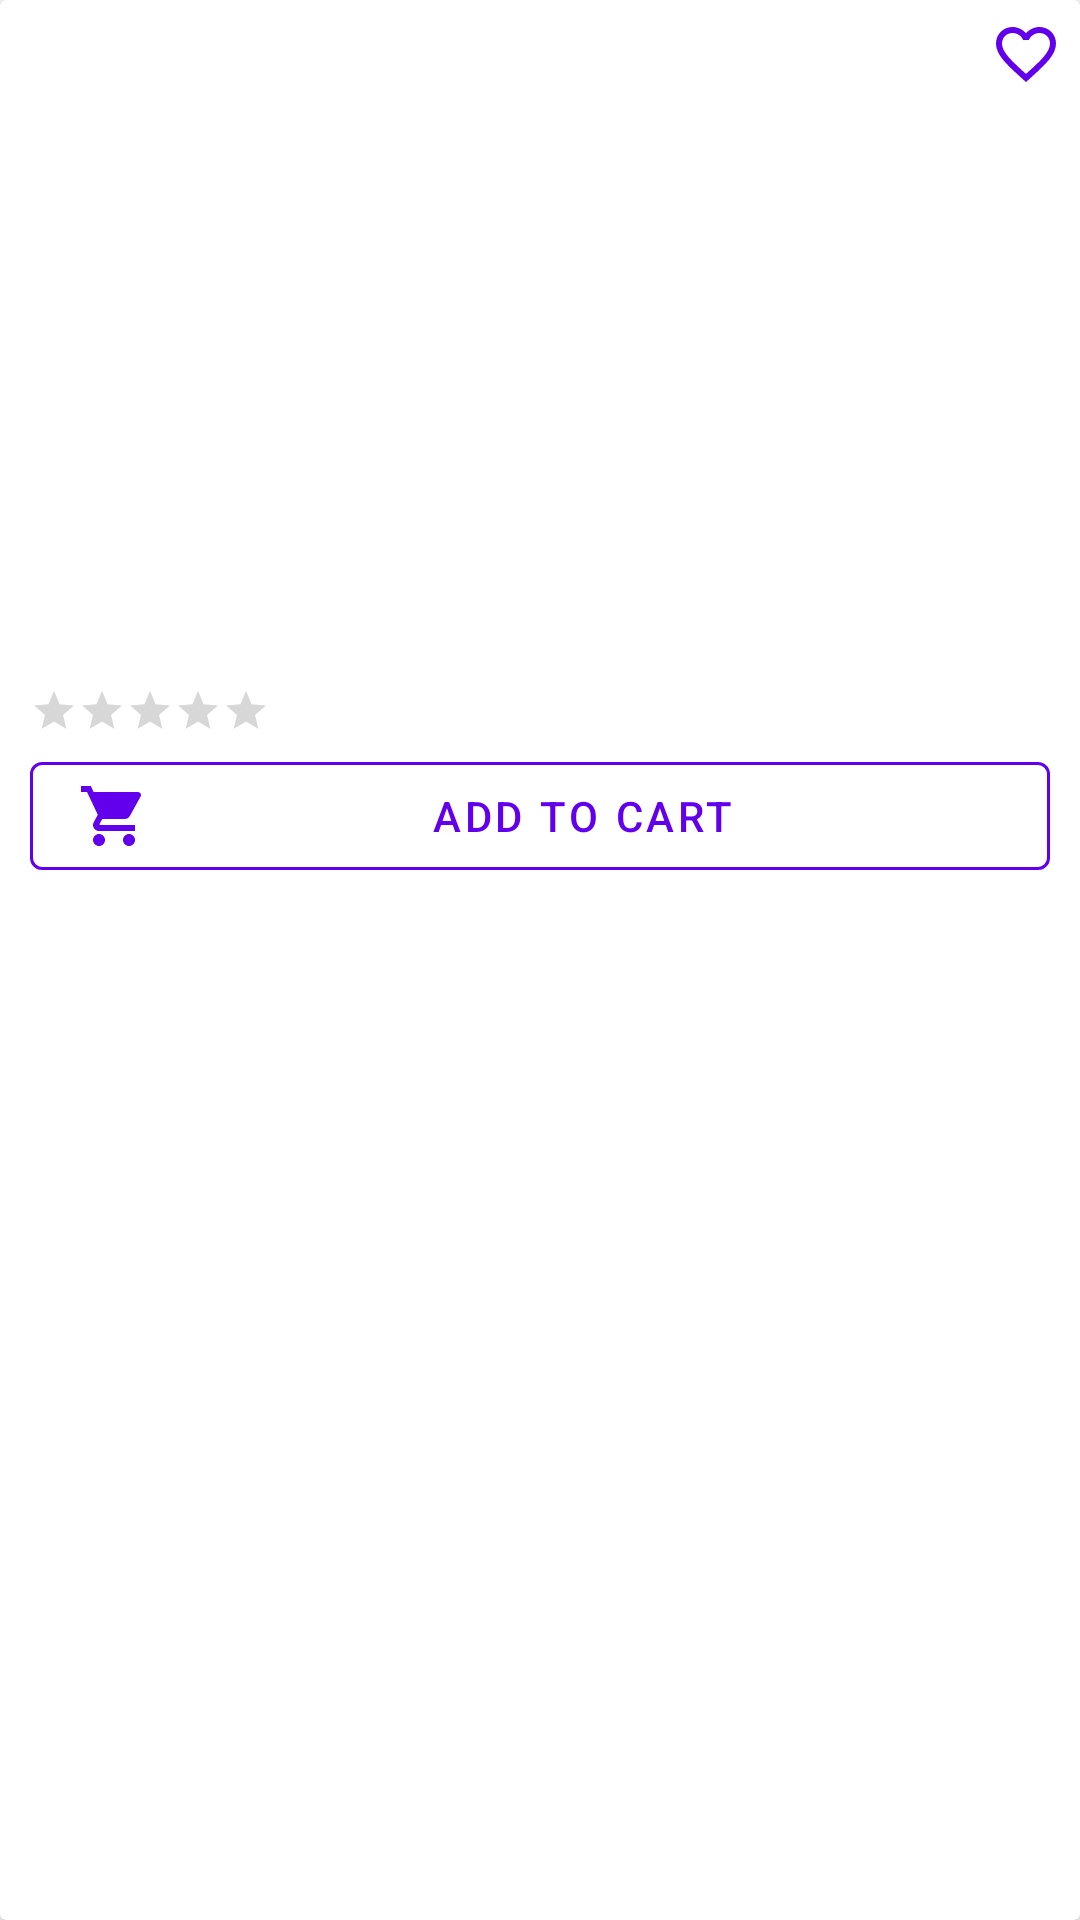

Screen size 1080x1920. Icon name, then its box in pixels as detection(x1, y1, x2, y2):
Favorite: detection(996, 27, 1056, 82)
